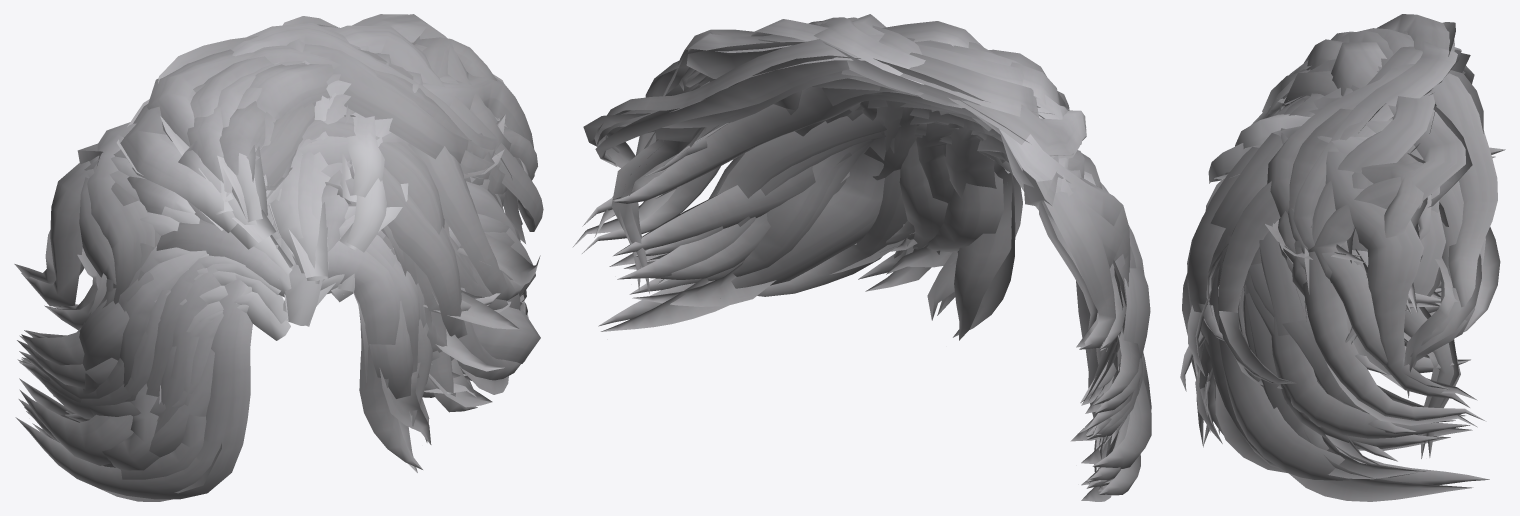
Rendered from vroid_hair_c11v6p.glb.
3 views of the same model, side by side, from view 1: azimuth 30°, elevation 25°; view 2: azimuth 150°, elevation 25°; view 3: azimuth 270°, elevation 25° (orthographic). The views are drawn at different scales.
Parts seen in each view (by area): view 1: hair; view 2: hair; view 3: hair.
Boxes of the visible parts, bbox=[...] form: hair: bbox=[14, 14, 543, 501]; hair: bbox=[572, 14, 1151, 501]; hair: bbox=[1180, 14, 1505, 501].
Size of the model in its own units: 0.2153 by 0.1647 by 0.1203.
Materials: 1 (1 with a texture image).
